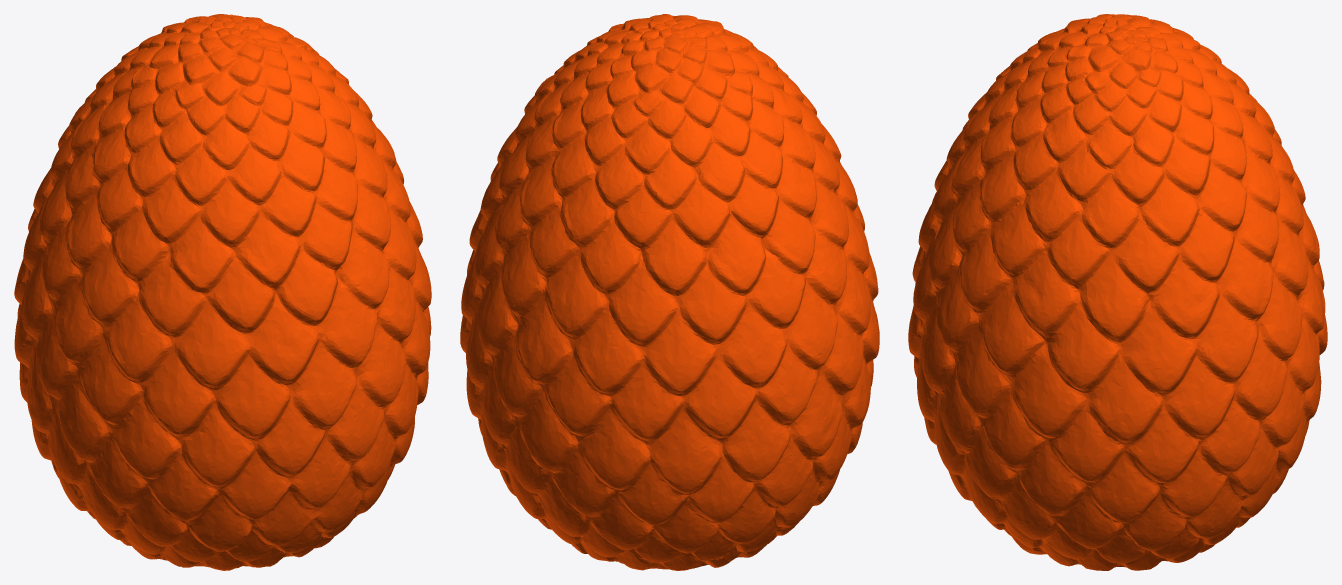
The model's file is Egg_Fire.fbx.
The picture shows the model from 3 angles, left to right: view 1: azimuth 30°, elevation 25°; view 2: azimuth 150°, elevation 25°; view 3: azimuth 270°, elevation 25°; orthographic projection.
Parts seen in each view (by area): view 1: DragonEggSolid; view 2: DragonEggSolid; view 3: DragonEggSolid.
Part boxes in pixels (bbox=[...]): DragonEggSolid: bbox=[14, 14, 431, 570]; DragonEggSolid: bbox=[460, 14, 879, 570]; DragonEggSolid: bbox=[908, 14, 1327, 570].
Bounding box in the file's own units: 185 × 244 × 185.
